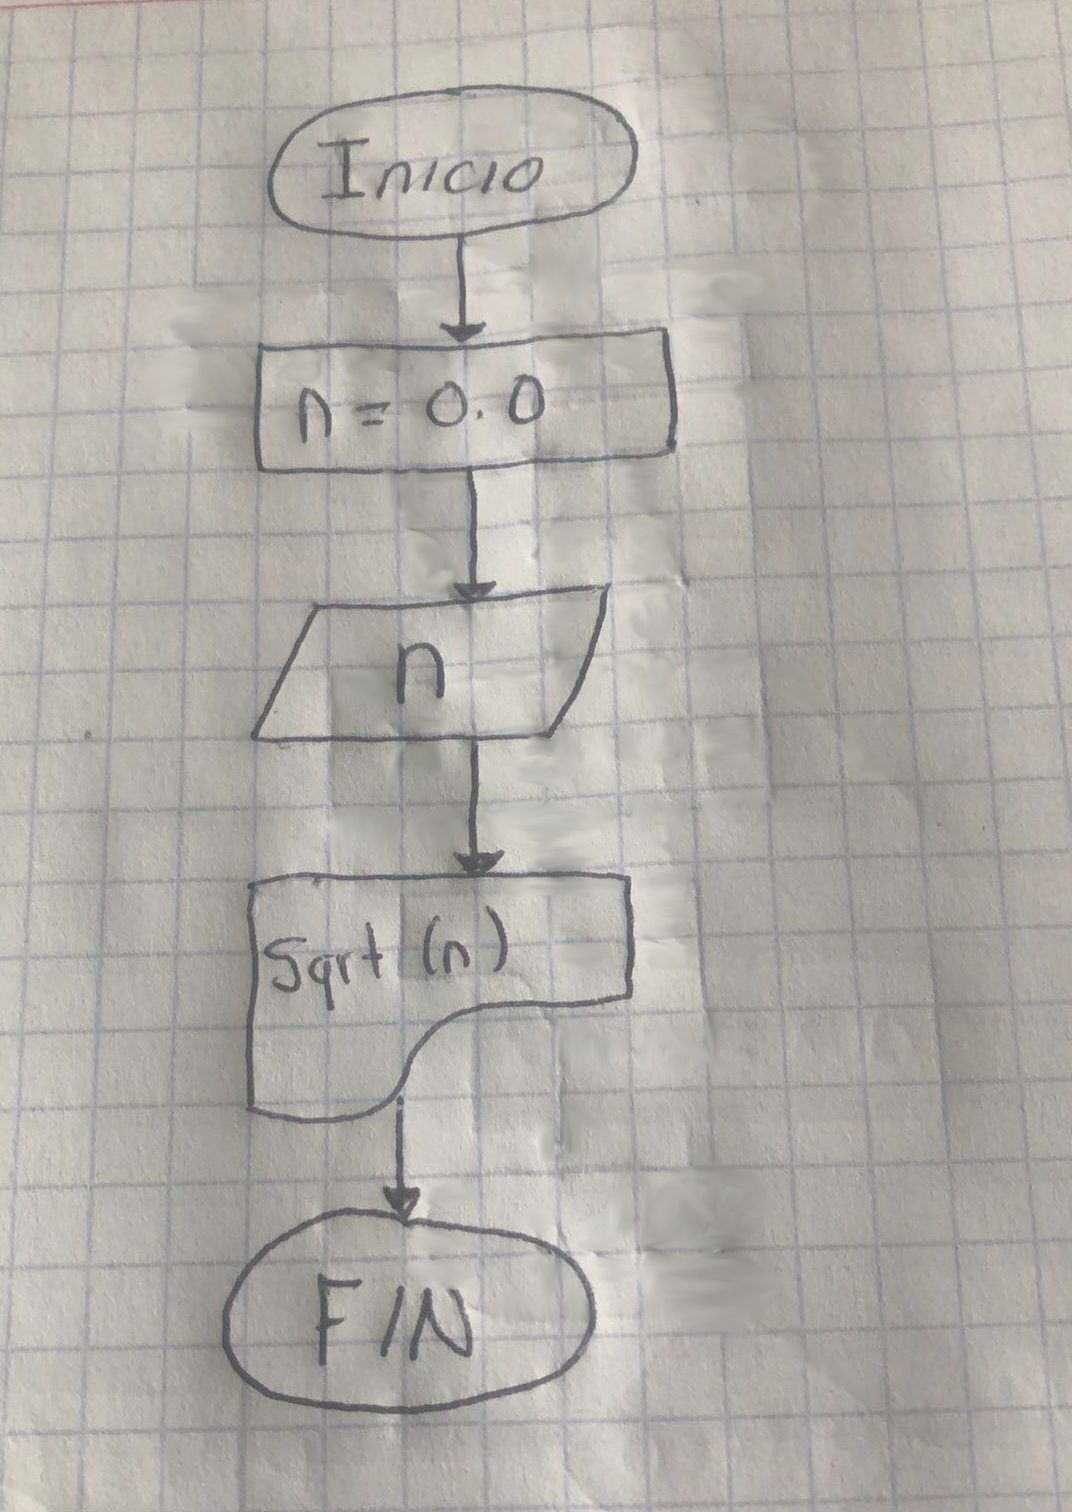arrow_line_down: (450, 732, 498, 880), (443, 471, 497, 600), (432, 234, 484, 346), (384, 1081, 425, 1221)
print: (230, 862, 642, 1123)
process: (241, 323, 685, 478)
scan: (237, 578, 623, 757)
start_end: (209, 1207, 603, 1423), (248, 80, 642, 239)
